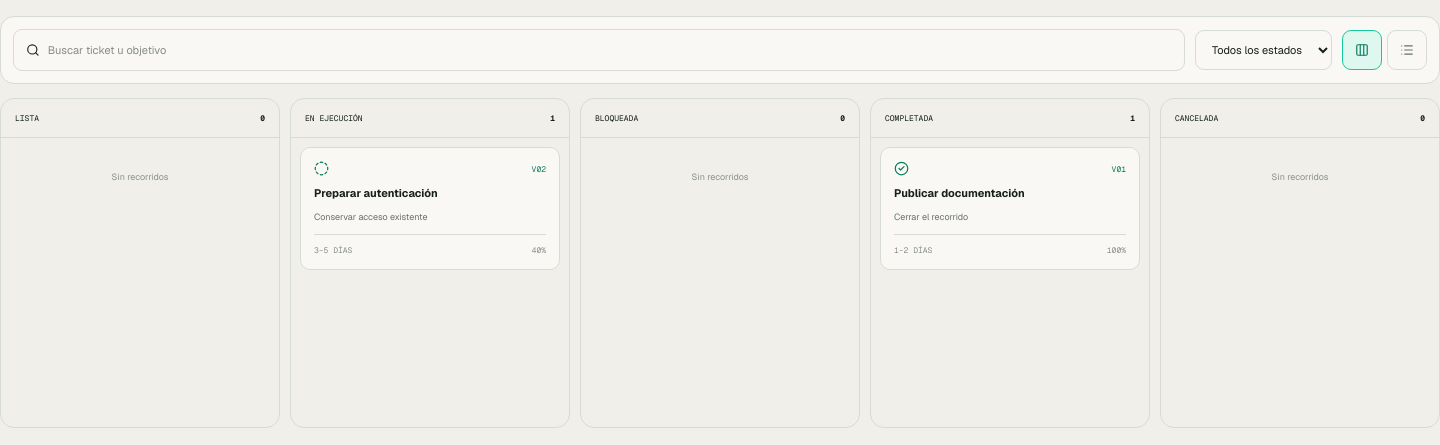
BoardExplorer › filtra recorridos y alterna a una lista accesible
In the field named "Buscar en Execution Board": [610, 50] box [48,30,1172,70], type "autenticación"
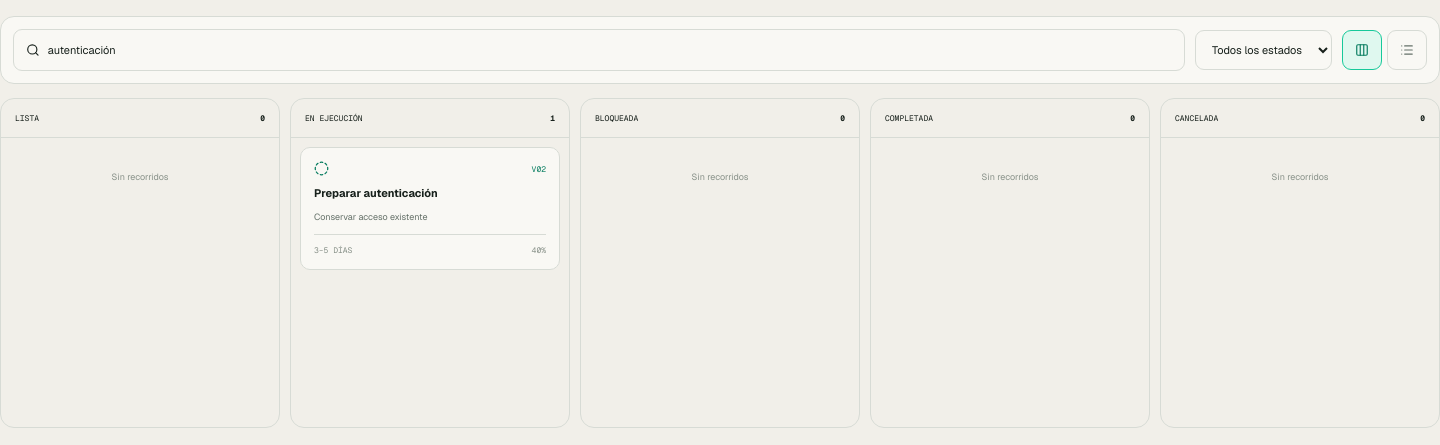
Expected: the text "Preparar autenticación" is shown, [314,186,438,200]
Result: the link "Publicar documentación" is gone
Click the button named "Vista de lista": [1407, 50] box [1387,30,1427,70]
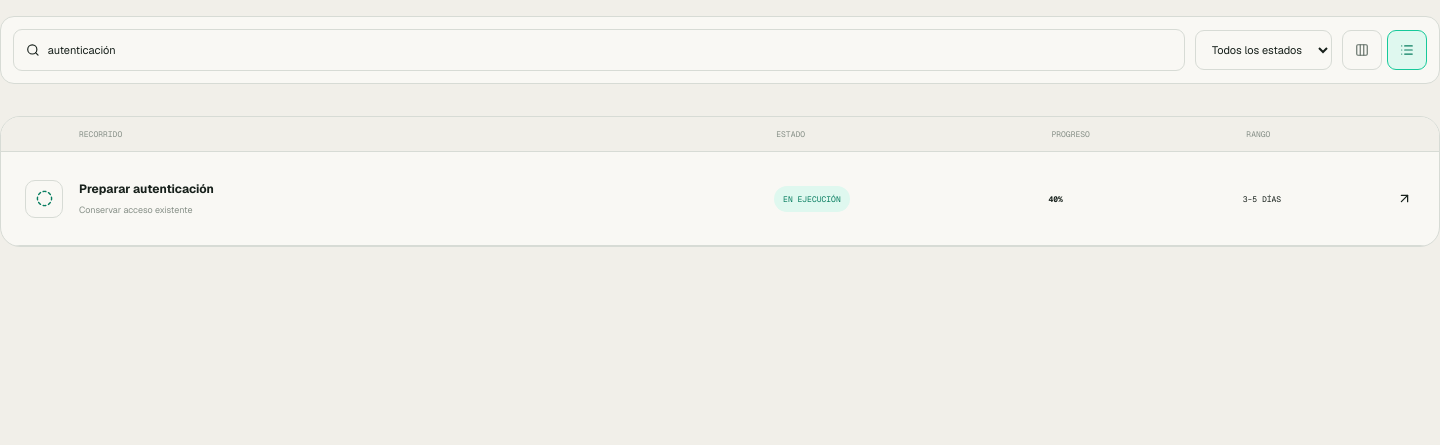
Expected: the text "40%" is shown, [1048,194,1063,204]
Result: the text "En ejecución" is shown 2 times
